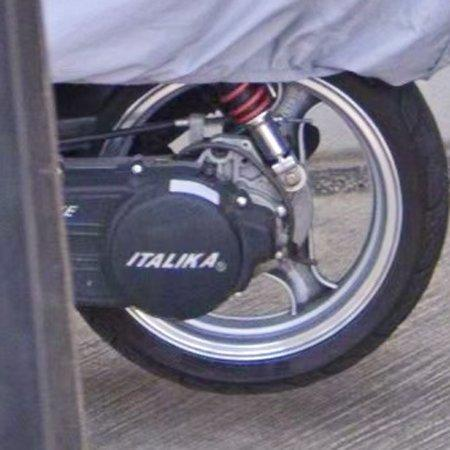motorcycles: (55, 72, 450, 394)
